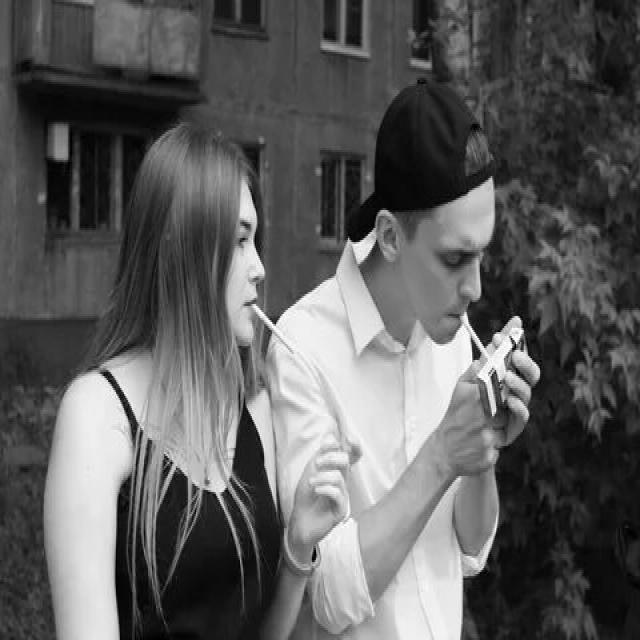smoke: (244, 294, 299, 362), (452, 304, 497, 370)
